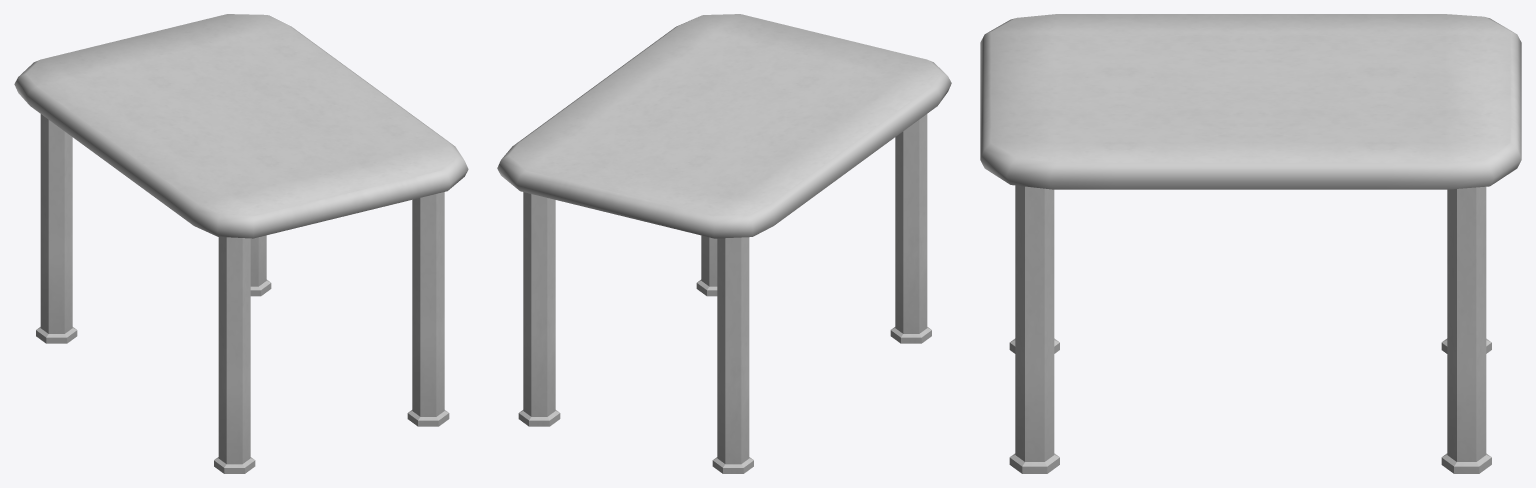
Rendered from plasticdesk.fbx.
3 views of the same model, side by side, from view 1: azimuth 30°, elevation 25°; view 2: azimuth 150°, elevation 25°; view 3: azimuth 270°, elevation 25° (orthographic). The views are drawn at different scales.
Parts seen in each view (by area): view 1: Plane; view 2: Plane; view 3: Plane.
Boxes of the visible parts, <box> form: Plane: <box>14,14,468,473</box>; Plane: <box>497,14,951,473</box>; Plane: <box>980,14,1521,473</box>.
Bounding box in the file's own units: 106 × 100 × 154.
